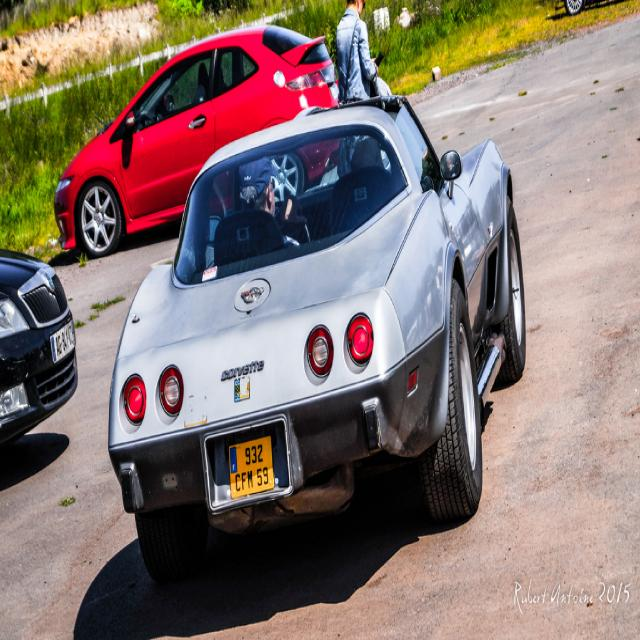car: (102, 93, 531, 578)
